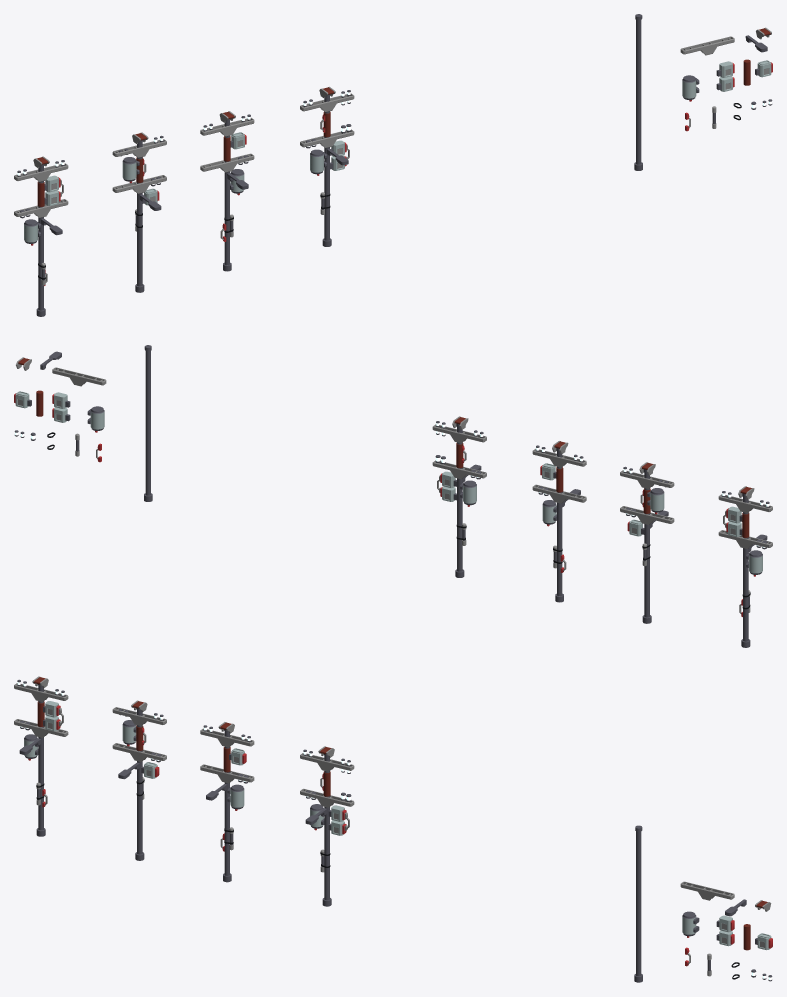
The model's file is pElecPole.glb.
3 renders of one model, top to bottom at view 1: azimuth 30°, elevation 25°; view 2: azimuth 150°, elevation 25°; view 3: azimuth 330°, elevation 25°, orthographic.
Parts seen in each view (by area): view 1: Object_4; view 2: Object_4; view 3: Object_4.
Boxes of the visible parts, <box> form: Object_4: <box>14,14,772,316</box>; Object_4: <box>14,345,772,647</box>; Object_4: <box>14,676,772,982</box>.
Size of the model in its own units: 12.83 by 2.53 by 0.6559.
4 materials, 4 textured.
